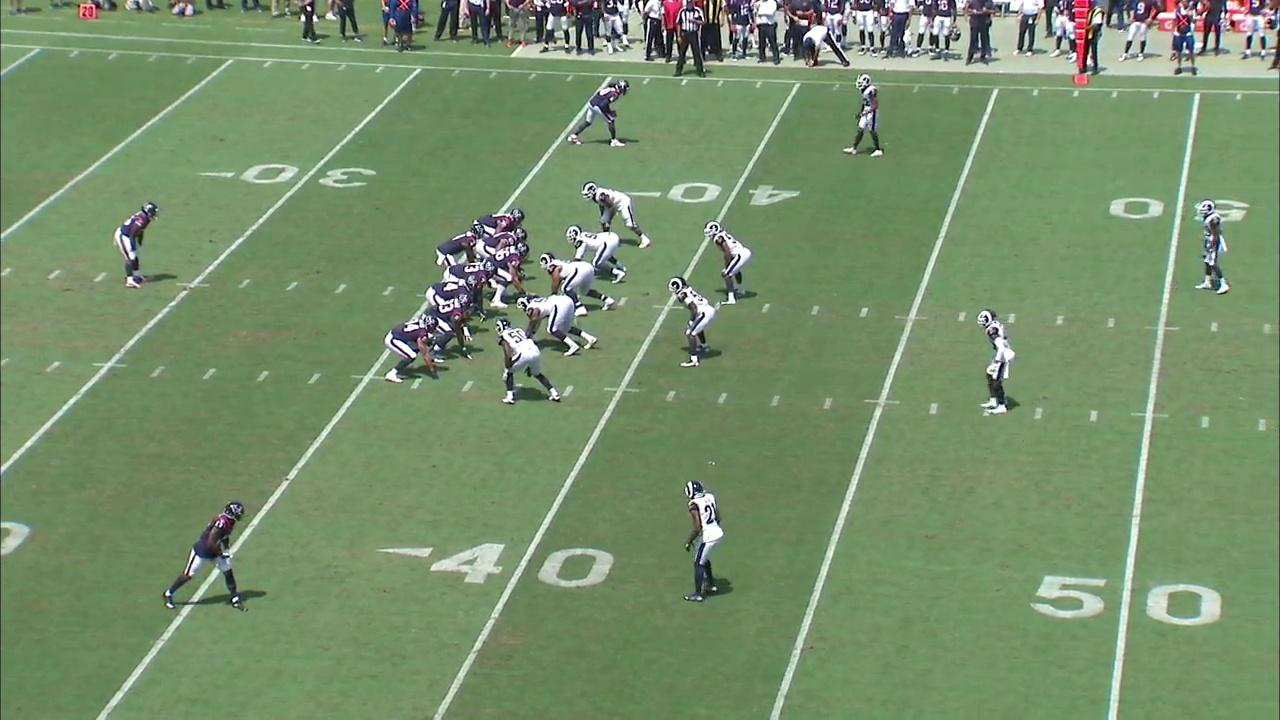player: (160, 496, 252, 614), (677, 475, 726, 606), (494, 317, 563, 407), (516, 294, 601, 358), (538, 251, 615, 318), (564, 76, 633, 149), (581, 180, 652, 250), (667, 275, 718, 370), (110, 200, 163, 290), (701, 220, 754, 308), (974, 307, 1016, 417), (380, 315, 440, 387), (419, 292, 475, 366), (1190, 199, 1231, 296), (565, 224, 628, 286), (842, 72, 886, 160), (484, 242, 531, 310), (435, 221, 488, 271), (474, 225, 530, 263), (423, 274, 482, 308), (470, 208, 528, 240), (440, 259, 499, 288)
ref: (669, 0, 709, 81)
